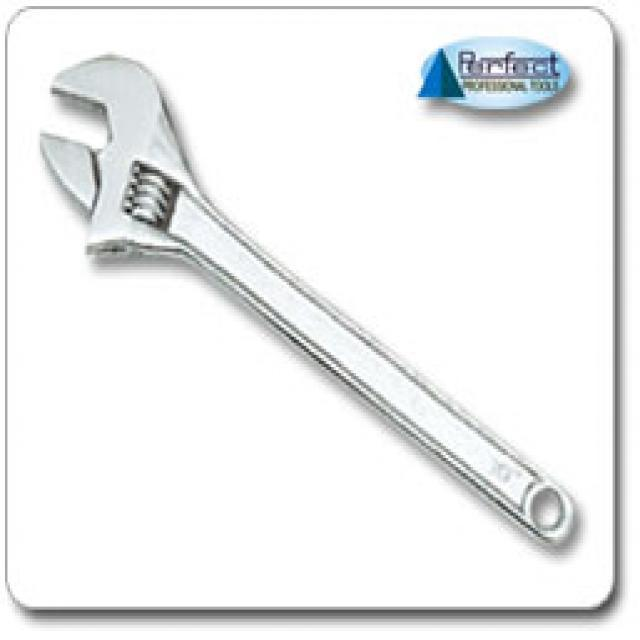wrench: (27, 45, 586, 561)
